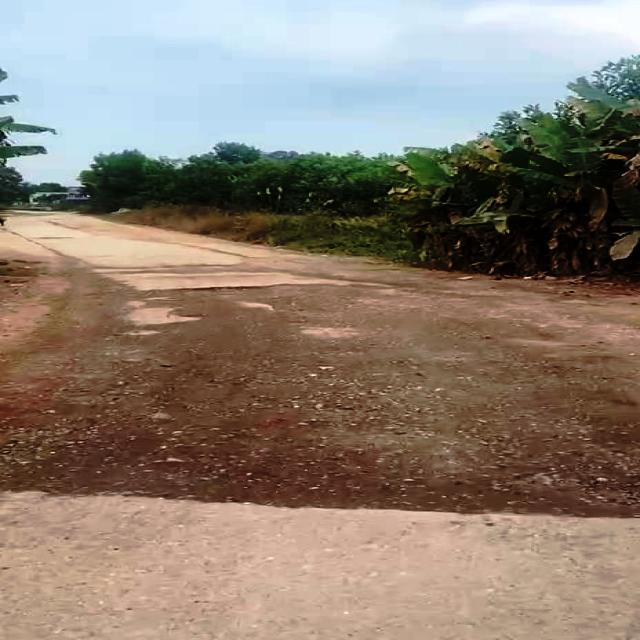pothole: (480, 458, 640, 516), (150, 280, 270, 306)
